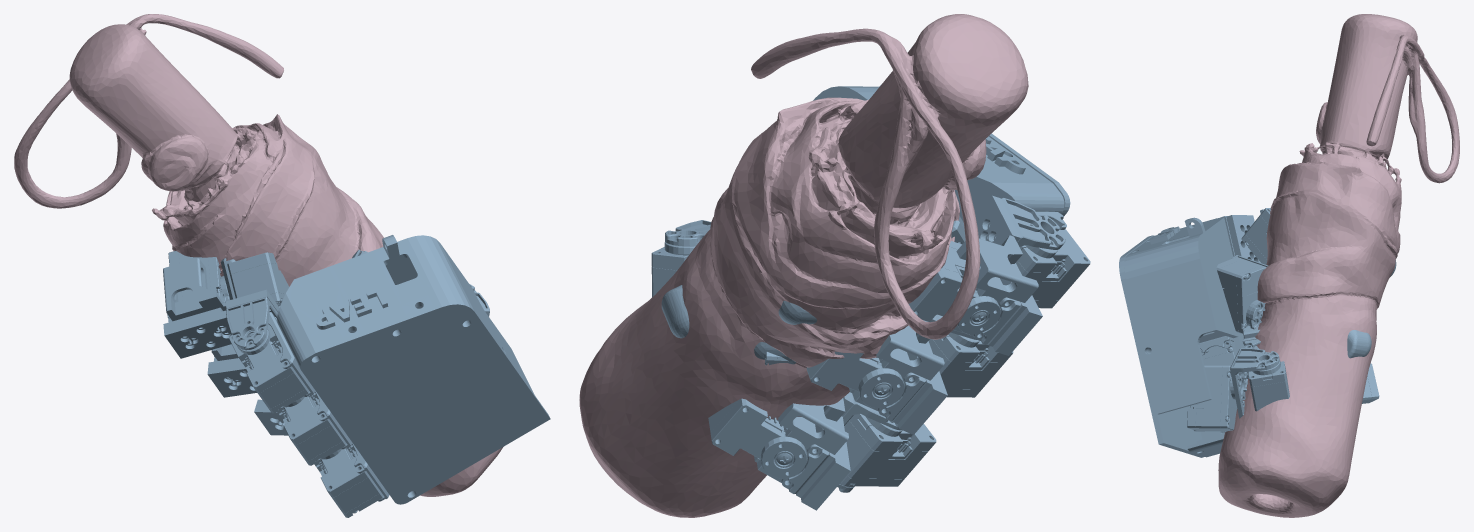
3 renders of one model, left to right at view 1: azimuth 30°, elevation 25°; view 2: azimuth 150°, elevation 25°; view 3: azimuth 270°, elevation 25°, orthographic. The views are drawn at different scales.
Parts seen in each view (by area): view 1: world, obj_mesh_grasp_15.obj; view 2: obj_mesh_grasp_15.obj, world; view 3: obj_mesh_grasp_15.obj, world.
Part boxes in pixels (x1,y1,x2,y2): world: (163, 235, 550, 517); obj_mesh_grasp_15.obj: (14, 14, 502, 496); obj_mesh_grasp_15.obj: (579, 14, 1028, 517); world: (651, 84, 1090, 510); obj_mesh_grasp_15.obj: (1218, 14, 1459, 517); world: (1119, 208, 1396, 457).
Size of the model in its own units: 0.2081 by 0.2374 by 0.184.
